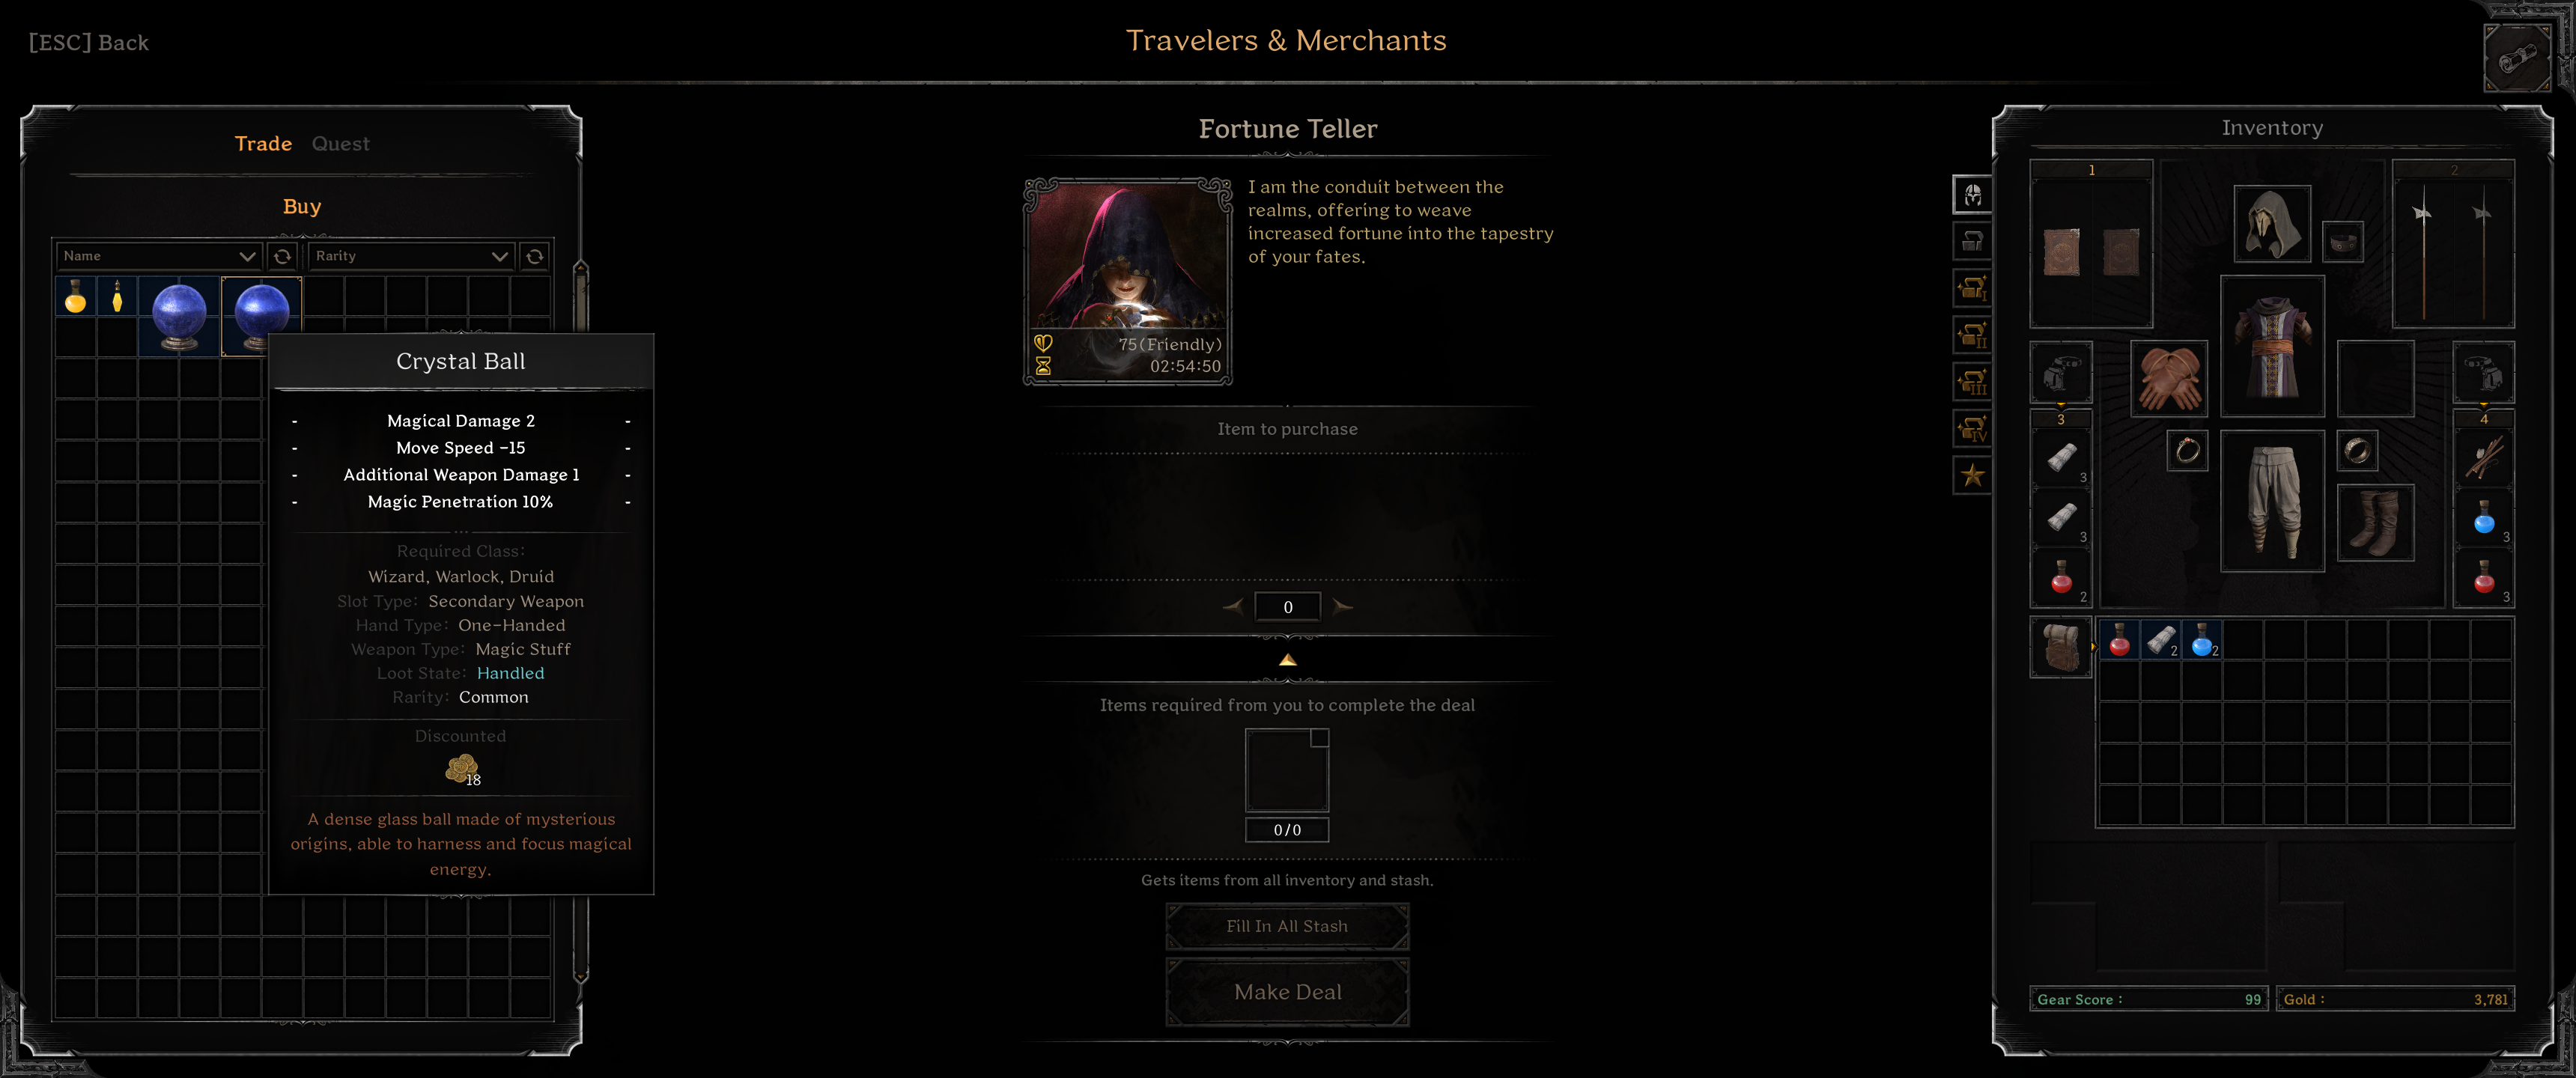Tooltip: (266, 330, 655, 897)
